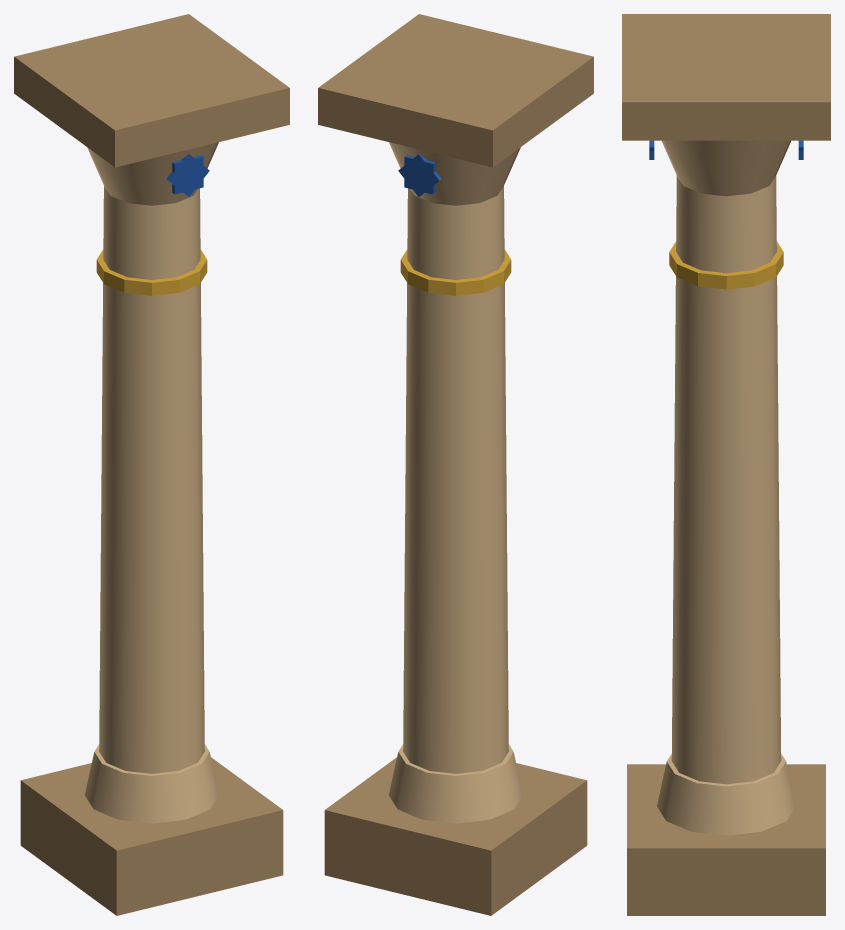
Rendered from dc_column.glb.
3 renders of one model, left to right at view 1: azimuth 30°, elevation 25°; view 2: azimuth 150°, elevation 25°; view 3: azimuth 270°, elevation 25°, orthographic. The views are drawn at different scales.
Visible parts, largest first — view 1: dc_column; view 2: dc_column; view 3: dc_column.
Part boxes in pixels (left/top/right/bottom): dc_column: left=14, top=14, right=289, bottom=915; dc_column: left=318, top=14, right=593, bottom=915; dc_column: left=622, top=14, right=830, bottom=915.
Size of the model in its own units: 0.84 by 3.62 by 0.84.
